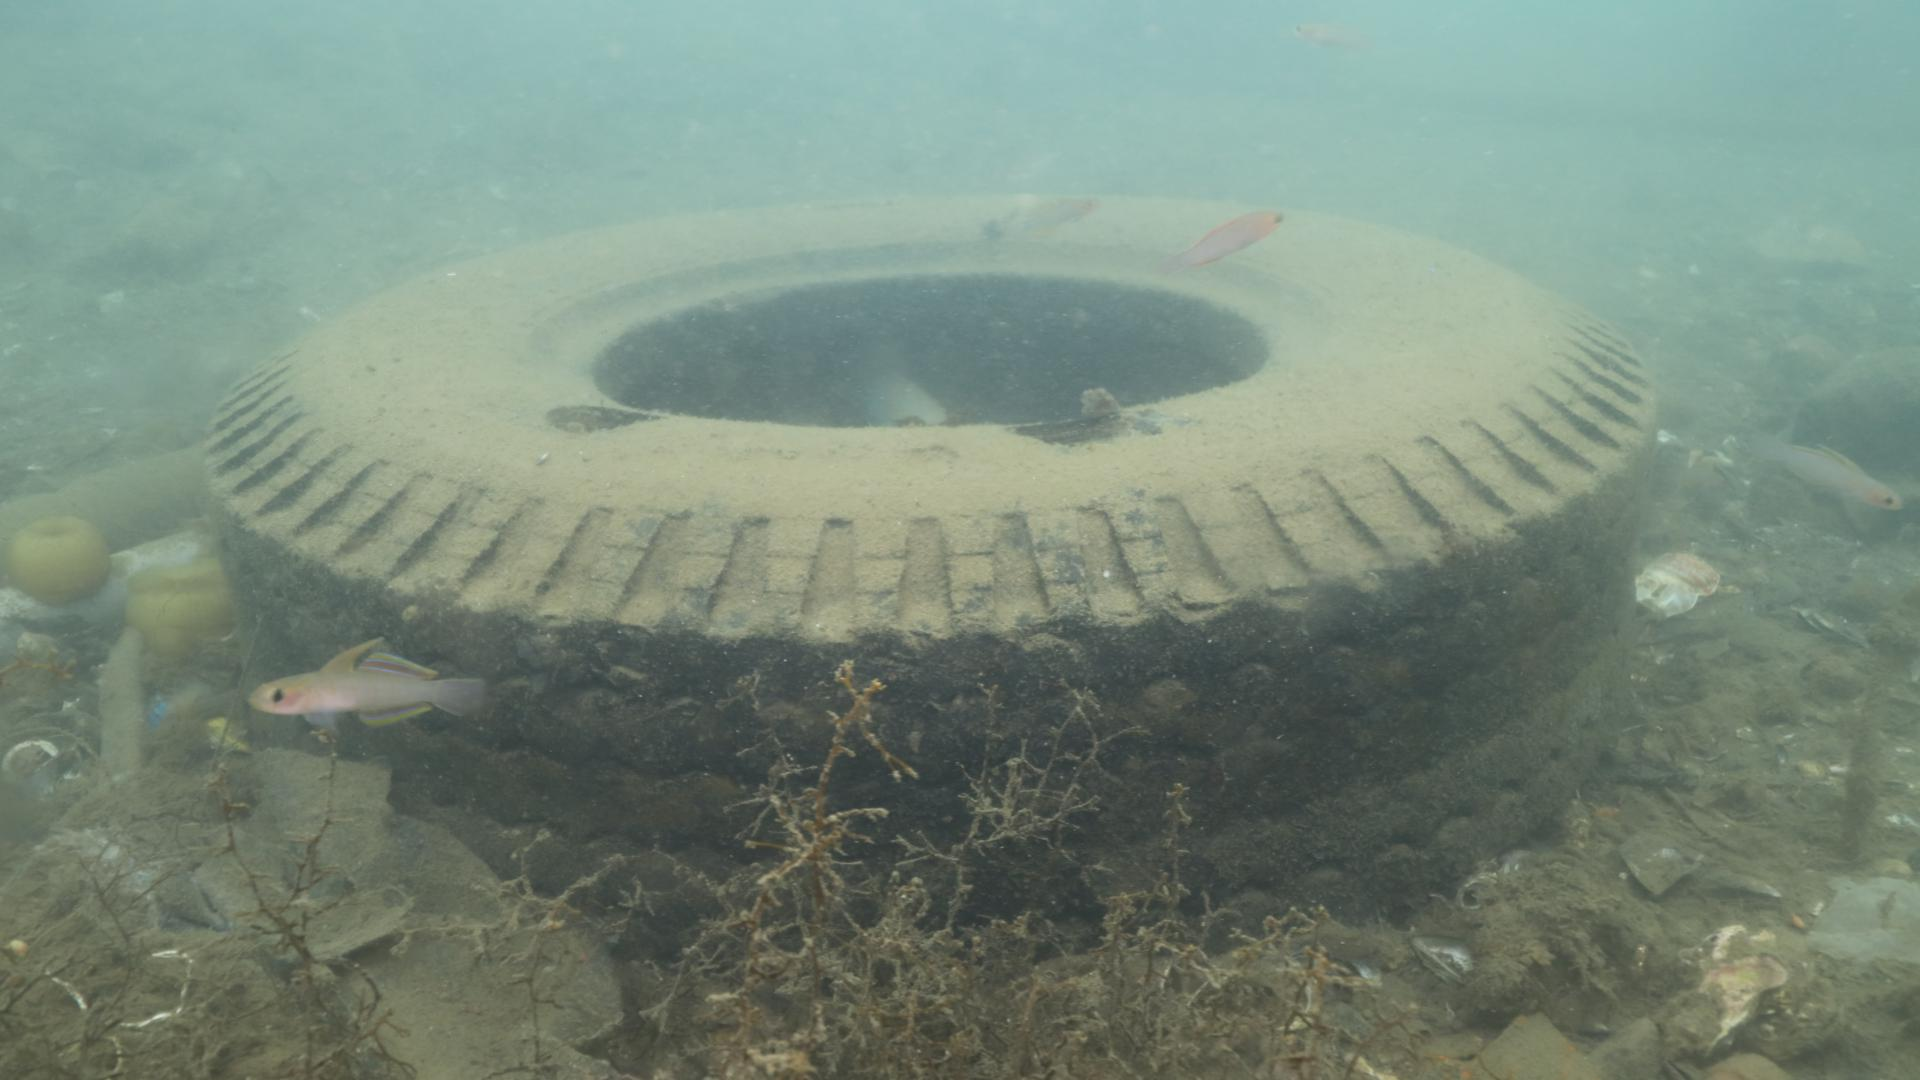tire: (196, 186, 1663, 934)
